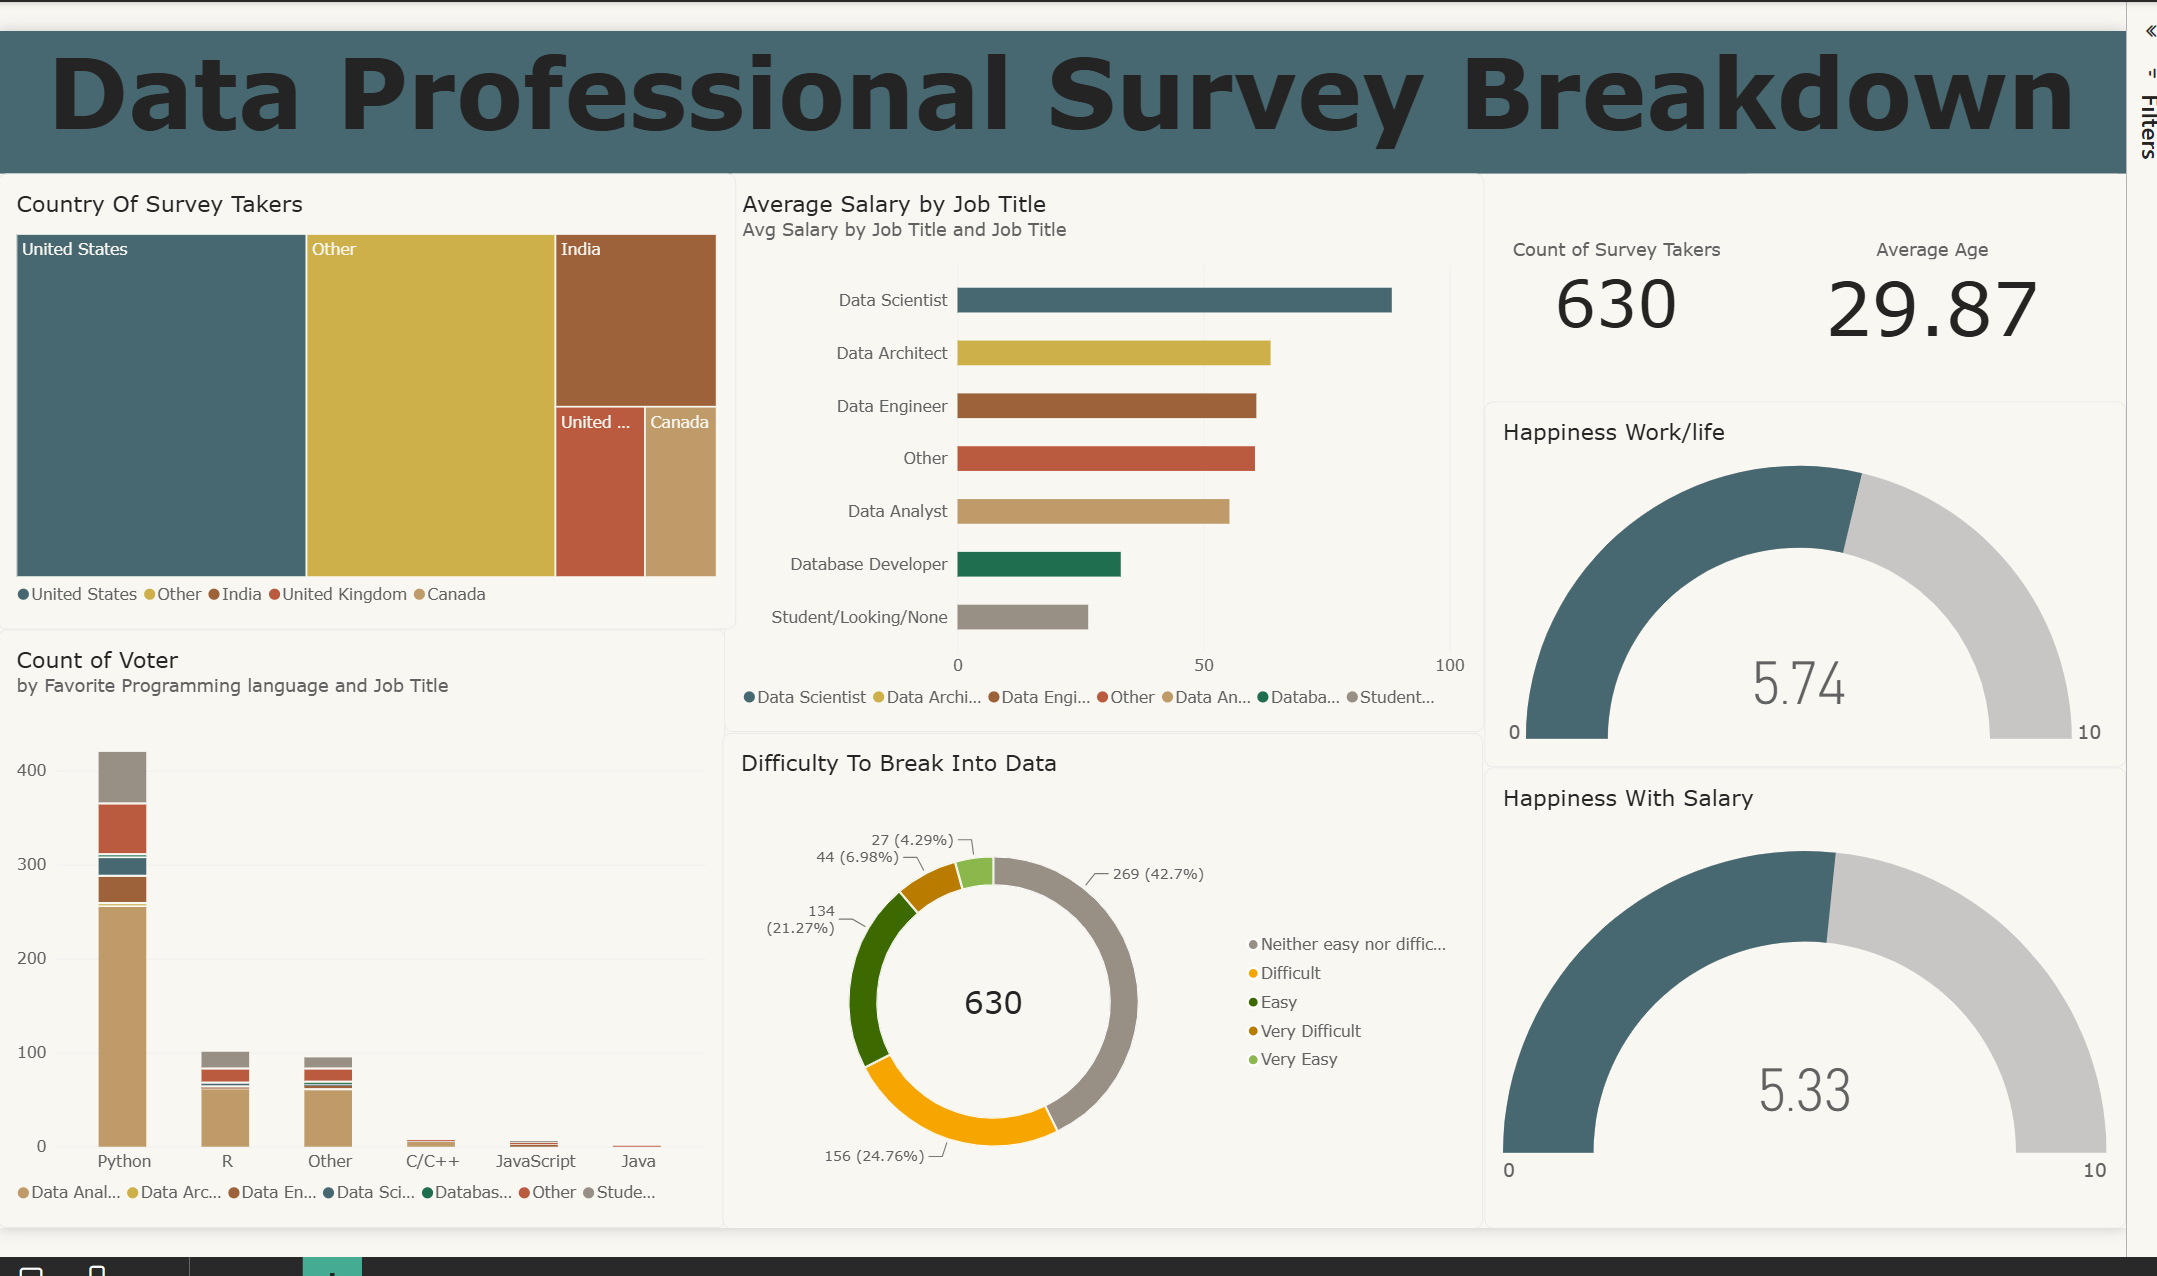

What the dashboard file says about the page in this screenshot:
{"tool":"powerbi","page":{"name":"Page 1","canvas":[1920,1080],"ordinal":0},"visuals":[{"type":"textbox","box":[0,0,1920,128.6],"z":0},{"type":"cardVisual","title":"Total Response","fields":{"Data":["Count(Data Professional Survey.Unique ID)"]},"box":[1340,135.7,241.4,198.6],"z":1000},{"type":"cardVisual","title":"Total Response","fields":{"Data":["Avg(Data Professional Survey.Q10 - Current Age)"]},"box":[1571.4,128.6,348.6,220],"z":2000},{"type":"barChart","title":"Average Salary by Job Title","fields":{"Category":["Data Professional Survey.Q1 - Which Title Best Fits your Current Role?.1"],"Series":["Data Professional Survey.Q1 - Which Title Best Fits your Current Role?.1"],"Y":["Avg(Data Professional Survey.Average Salary)"]},"box":[655.7,128.6,685.7,504.3],"z":3000},{"type":"columnChart","fields":{"Category":["Data Professional Survey.Q5 - Favorite Programming Language.1"],"Series":["Data Professional Survey.Q1 - Which Title Best Fits your Current Role?.1"],"Y":["CountNonNull(Data Professional Survey.Unique ID)"]},"box":[0,540,655.7,540],"z":4000},{"type":"treemap","title":"Country Of Survey Takers","fields":{"Group":["Data Professional Survey.Q11 - Which Country do you live in?.1"],"Values":["CountNonNull(Data Professional Survey.Q11 - Which Country do you live in?.1)"]},"box":[0,128.6,665.7,411.4],"z":5000},{"type":"gauge","title":"Happiness Work/life","fields":{"MaxValue":["Max(Data Professional Survey.Q6 - How Happy are you in your Current Position with the following? (Work/Life Balance))2"],"MinValue":["Min(Data Professional Survey.Q6 - How Happy are you in your Current Position with the following? (Work/Life Balance))1"],"Y":["Avg(Data Professional Survey.Q6 - How Happy are you in your Current Position with the following? (Work/Life Balance))"]},"box":[1341.4,334.3,578.6,330],"z":5001},{"type":"gauge","title":"Happiness With Salary","fields":{"MaxValue":["Max(Data Professional Survey.Q6 - How Happy are you in your Current Position with the following? (Management))1"],"MinValue":["Min(Data Professional Survey.Q6 - How Happy are you in your Current Position with the following? (Management))"],"Y":["Avg(Data Professional Survey.Q6 - How Happy are you in your Current Position with the following? (Management))"]},"box":[1341.4,664.3,578.6,415.7],"z":5002},{"type":"donutChart","title":"Difficulty To Break Into Data","fields":{"Category":["Data Professional Survey.Q7 - How difficult was it for you to break into Data?"],"Y":["CountNonNull(Data Professional Survey.Q7 - How difficult was it for you to break into Data?)"]},"box":[654.3,632.9,685.7,447.1],"z":5003}]}

Visuals, with their boxes on the page's 1920x1080 design canvas (x1, y1, x2, y2). These are canvas units, not pixel positions in the 2157x1276 screenshot, which may show the page scaled, cropped or inside an application window:
textbox: bbox=(0, 0, 1920, 129)
"Total Response" cardVisual: bbox=(1340, 136, 1581, 334)
"Total Response" cardVisual: bbox=(1571, 129, 1920, 349)
"Average Salary by Job Title" barChart: bbox=(656, 129, 1341, 633)
columnChart - Data Professional Survey.Q5 - Favorite Programming Language.1 x Data Professional Survey.Q1 - Which Title Best Fits your Current Role?.1: bbox=(0, 540, 656, 1080)
"Country Of Survey Takers" treemap: bbox=(0, 129, 666, 540)
"Happiness Work/life" gauge: bbox=(1341, 334, 1920, 664)
"Happiness With Salary" gauge: bbox=(1341, 664, 1920, 1080)
"Difficulty To Break Into Data" donutChart: bbox=(654, 633, 1340, 1080)
